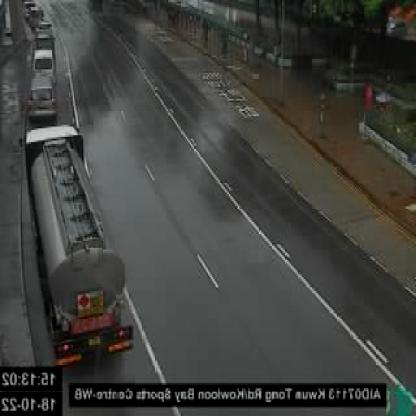Car: (27, 75, 58, 123), (30, 48, 56, 76)
Truck: (25, 125, 137, 365)
